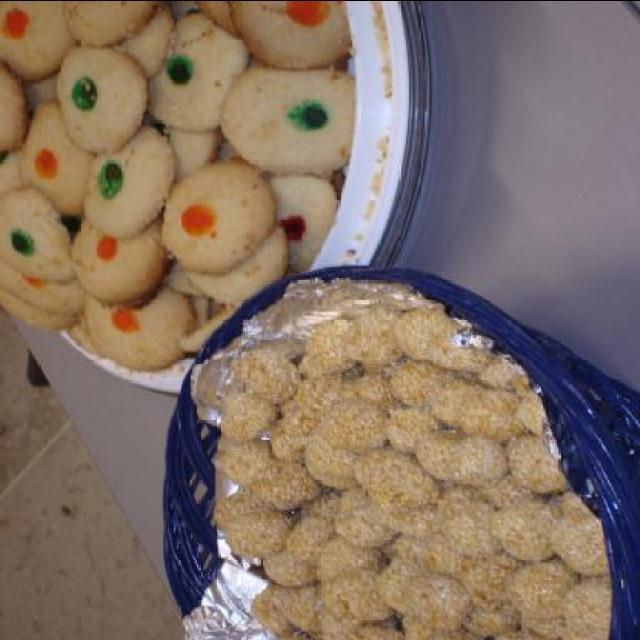Cookie: (0, 0, 358, 369)
